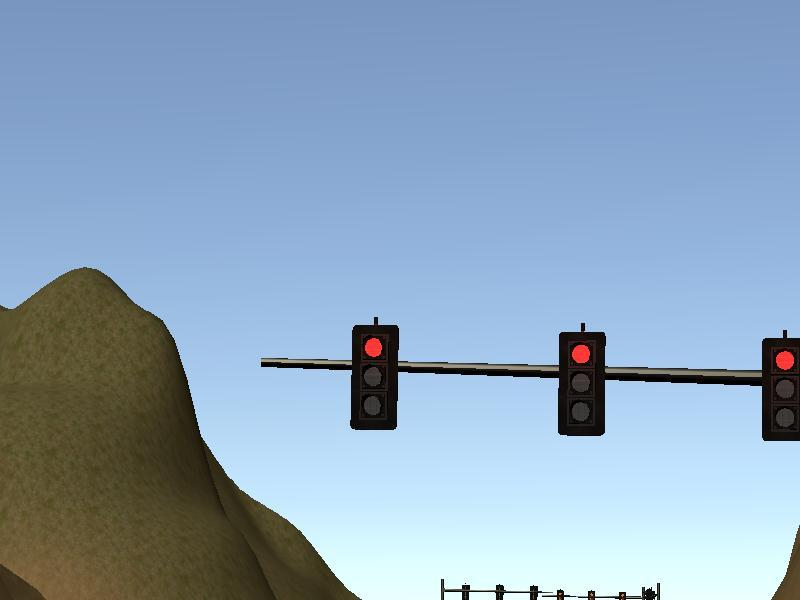Red: (350, 326, 397, 430), (559, 331, 605, 437), (759, 338, 800, 443)
